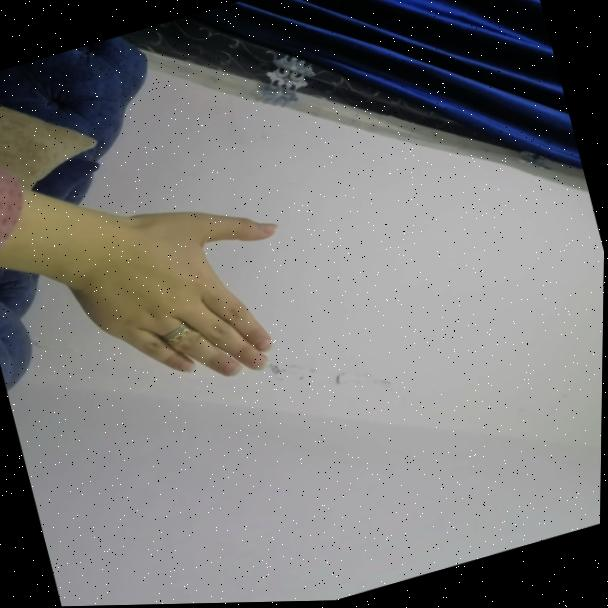five: (56, 178, 331, 420)
